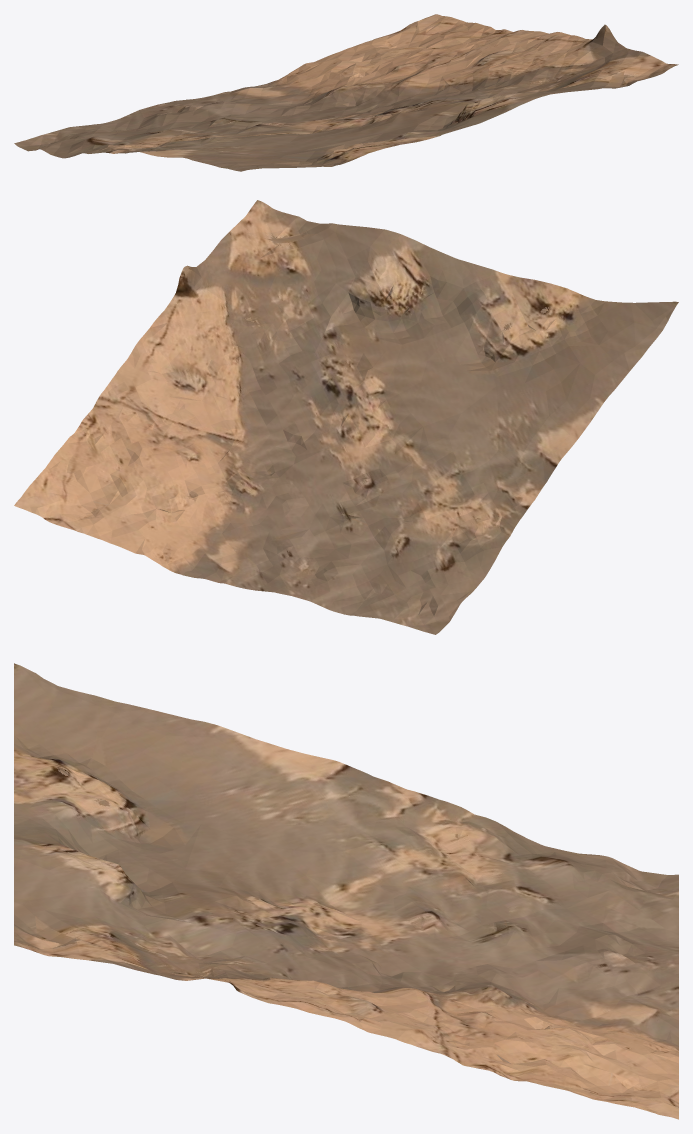
The picture shows the model from 3 angles, top to bottom: view 1: azimuth 30°, elevation 25°; view 2: azimuth 150°, elevation 25°; view 3: azimuth 270°, elevation 25°; orthographic projection. The views are drawn at different scales.
Size of the model in its own units: 1.04 by 0.3734 by 1.04.
Materials: 2 (2 with a texture image).
